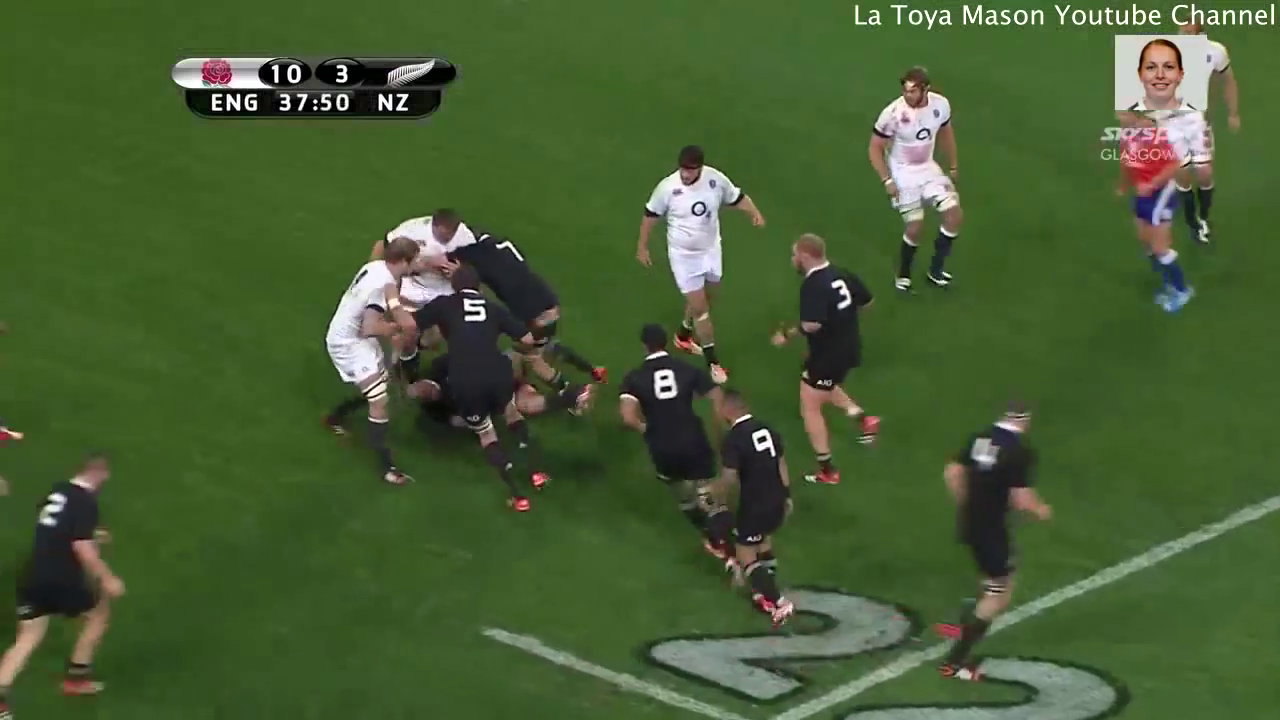maul: (328, 196, 613, 520)
player: (5, 446, 137, 712), (419, 269, 556, 512), (935, 392, 1039, 681), (782, 242, 905, 485), (863, 62, 979, 300), (622, 322, 735, 559), (462, 228, 603, 414), (634, 142, 757, 344), (329, 243, 417, 476), (716, 384, 796, 623), (1105, 155, 1196, 306), (396, 210, 459, 294)
